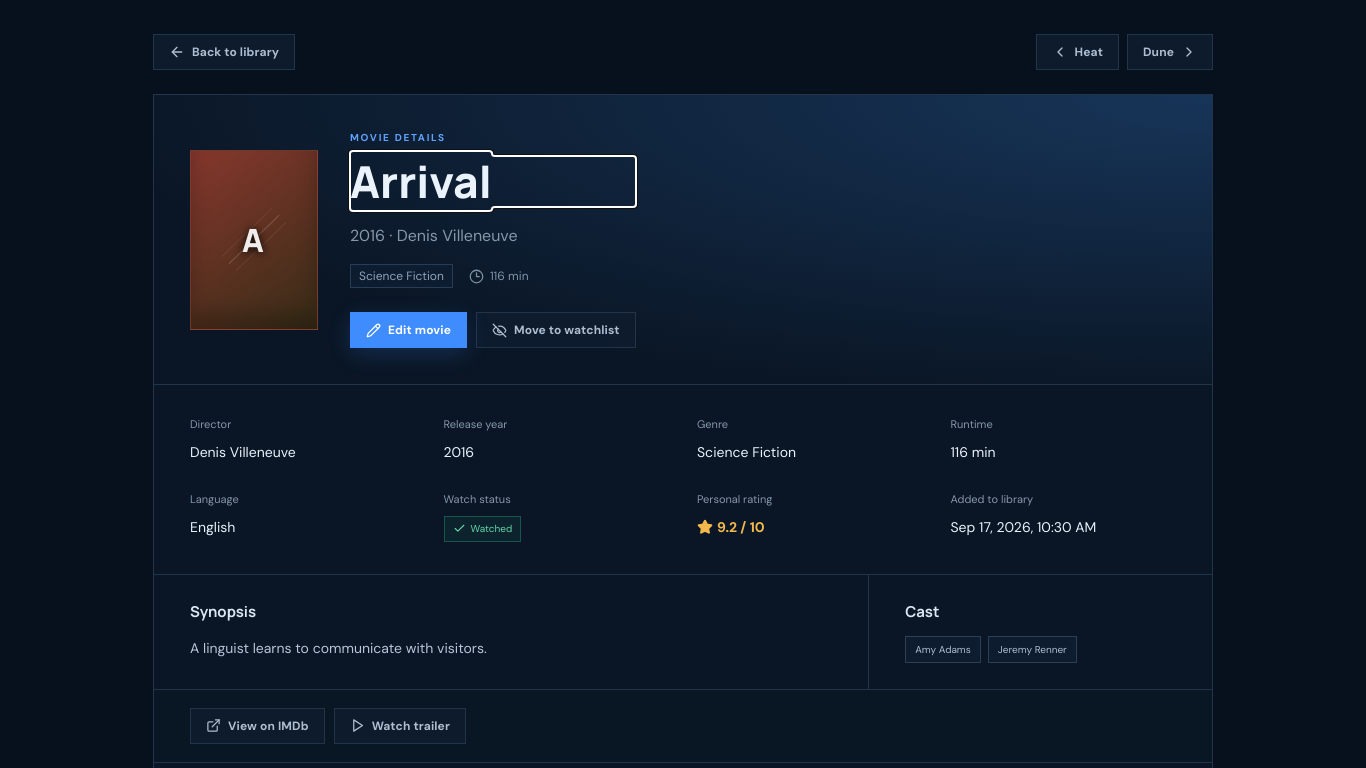
Test: MovieDetailsPage › supports editing, watch status changes, and neighboring movie navigation
Expected: the heading "Arrival" is shown, left=350, top=151, right=492, bottom=211
Click the button "Edit movie" at {"x": 408, "y": 330}, box left=350, top=312, right=467, bottom=348
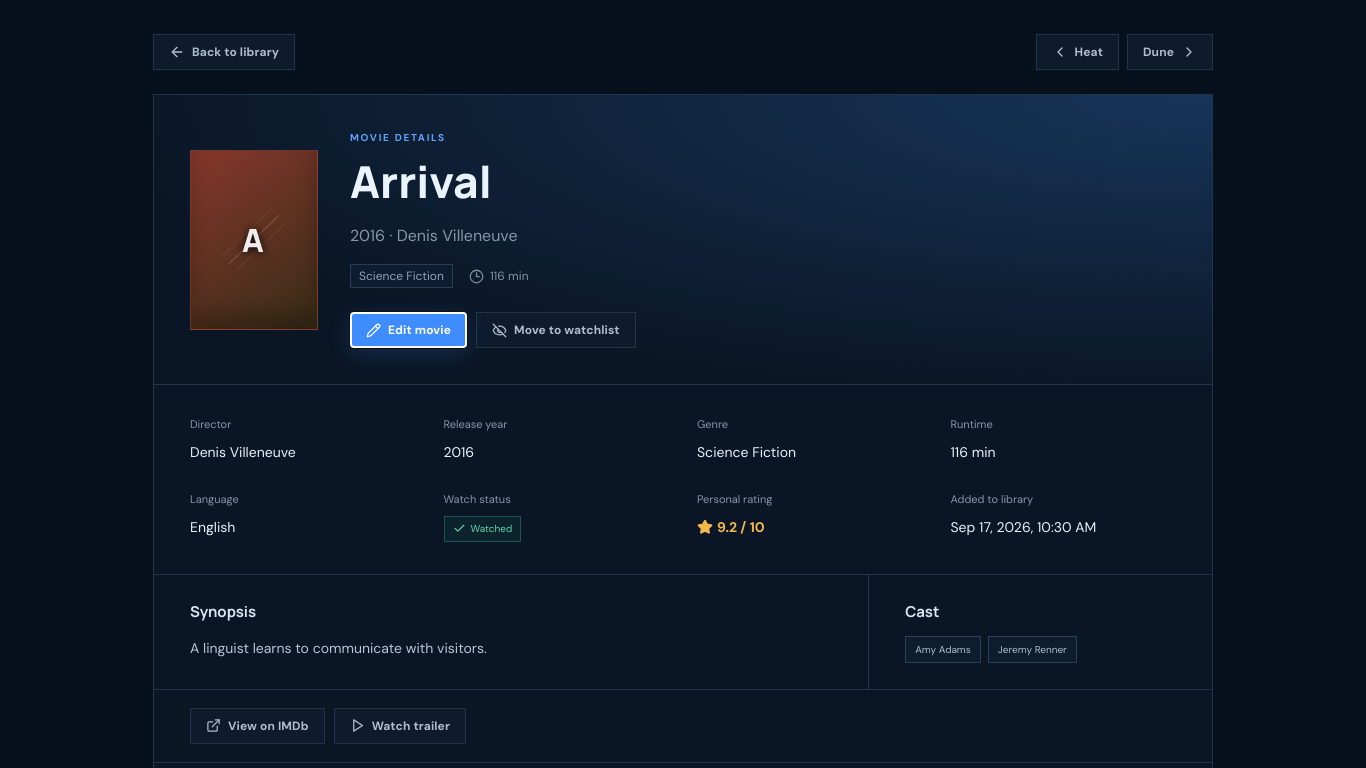
Click the button "Move to watchlist" at {"x": 556, "y": 330}, box left=476, top=312, right=636, bottom=348
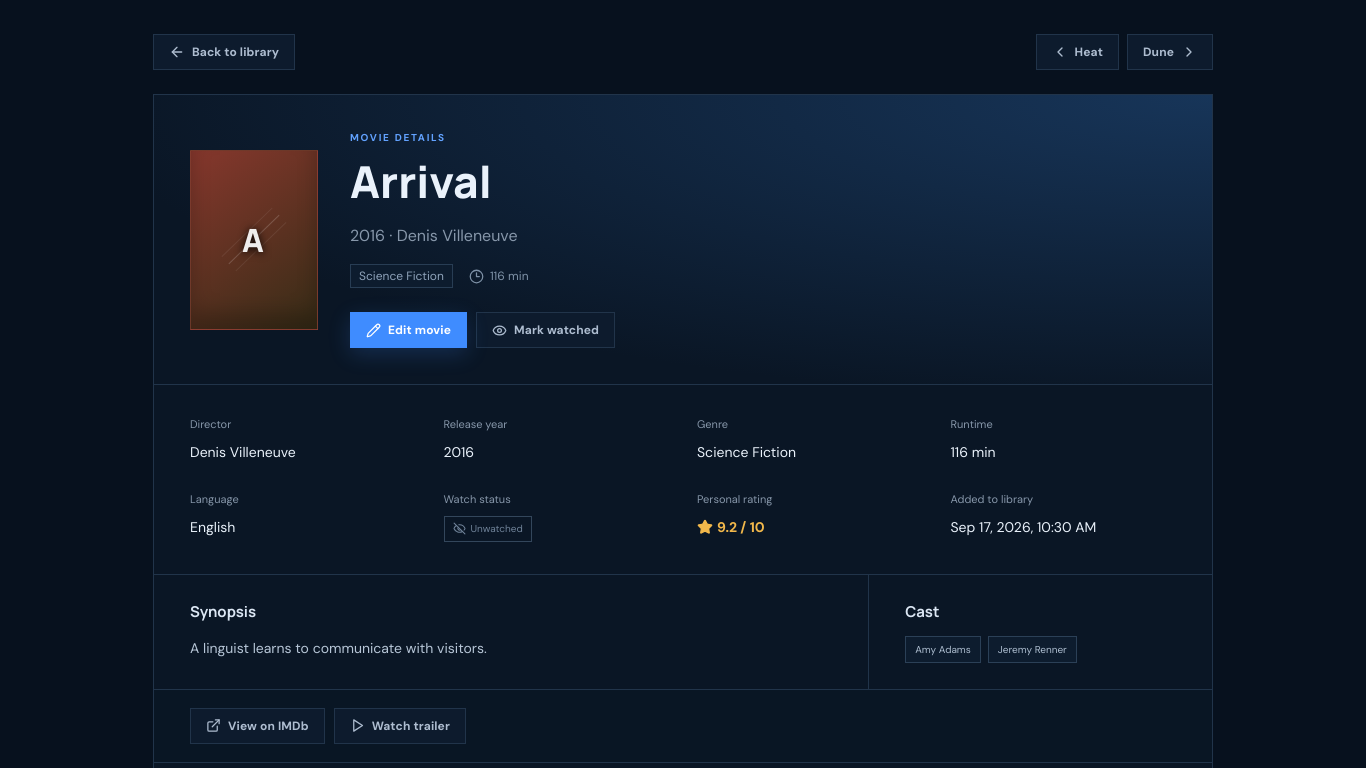
Expected: the button "Mark watched" is shown, left=476, top=312, right=615, bottom=348
